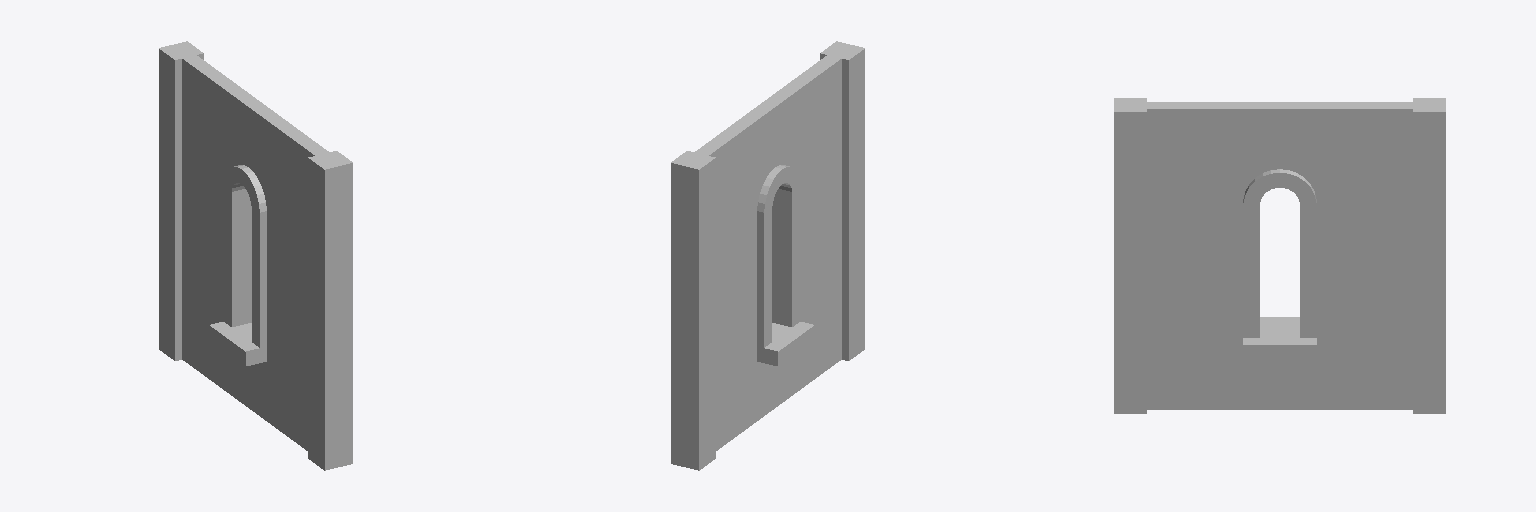
Rendered from wall-wood-window-round.obj.
3 views of the same model, side by side, from view 1: azimuth 30°, elevation 25°; view 2: azimuth 150°, elevation 25°; view 3: azimuth 270°, elevation 25° (orthographic).
Parts seen in each view (by area): view 1: wall-wood-window-round; view 2: wall-wood-window-round; view 3: wall-wood-window-round.
Part boxes in pixels (left/top/right/bottom): wall-wood-window-round: left=159, top=41, right=352, bottom=470; wall-wood-window-round: left=671, top=41, right=864, bottom=470; wall-wood-window-round: left=1114, top=98, right=1445, bottom=413.
Bounding box in the file's own units: 0.2 × 1 × 1.